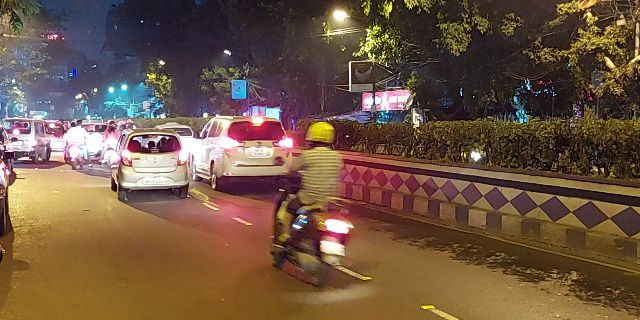Bus: (270, 121, 350, 301)
Car: (205, 114, 287, 187), (117, 127, 196, 200)
